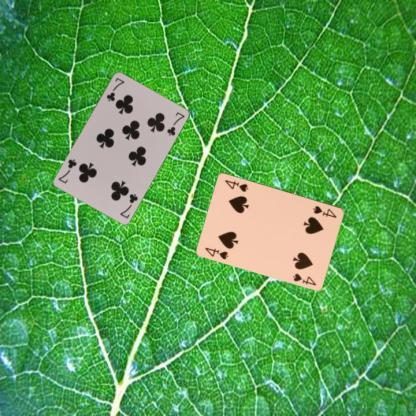4s: (311, 203, 338, 219), (203, 244, 230, 260)
7c: (118, 191, 140, 220), (104, 75, 126, 102)
